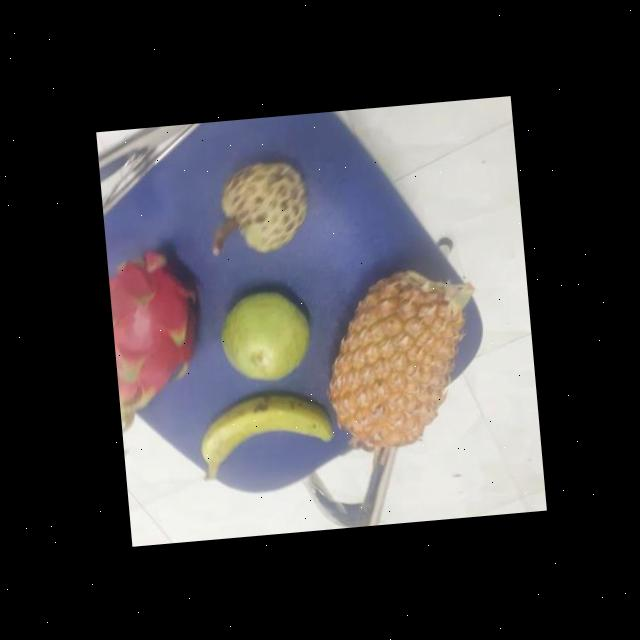Sakya fruit: (215, 157, 315, 253)
guava: (215, 285, 318, 382)
pineapple: (322, 260, 481, 444)
pitaya: (106, 244, 212, 414)
